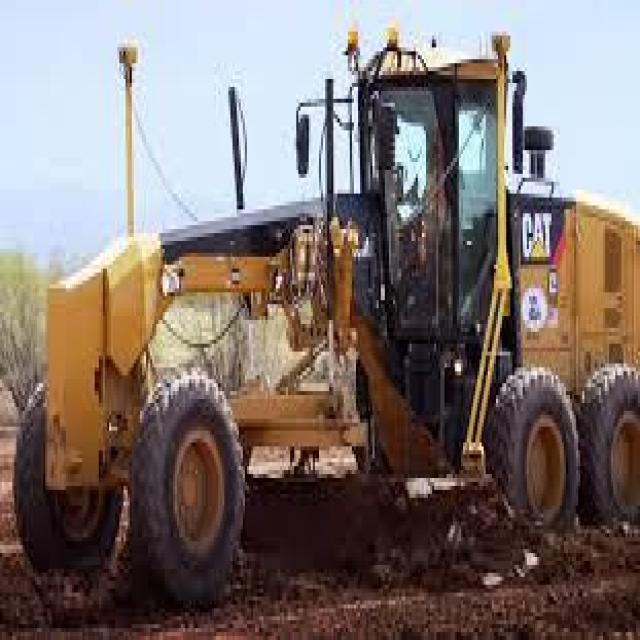buldozerpayloadergrader: (23, 8, 638, 596)
